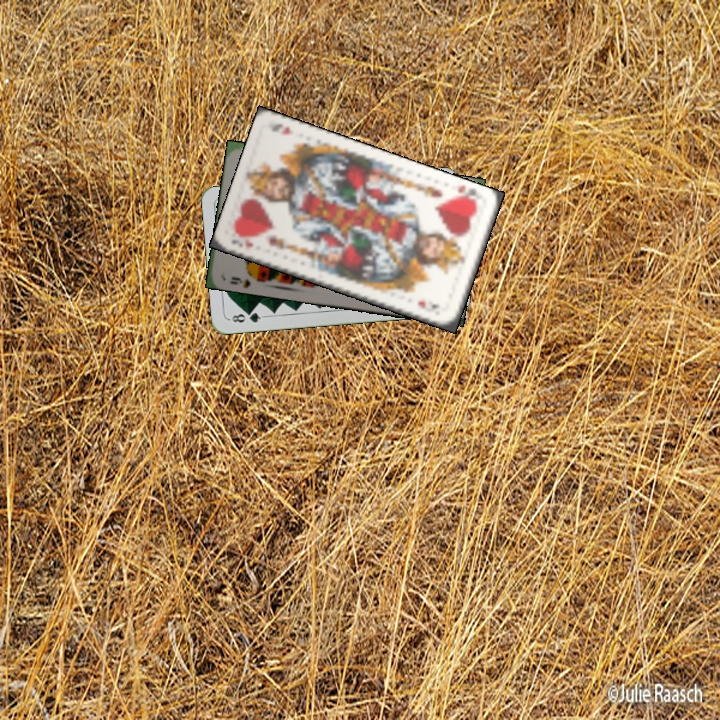G8: (226, 308, 266, 325)
HK: (448, 181, 480, 207), (227, 235, 256, 251)
S9: (226, 273, 253, 289)
